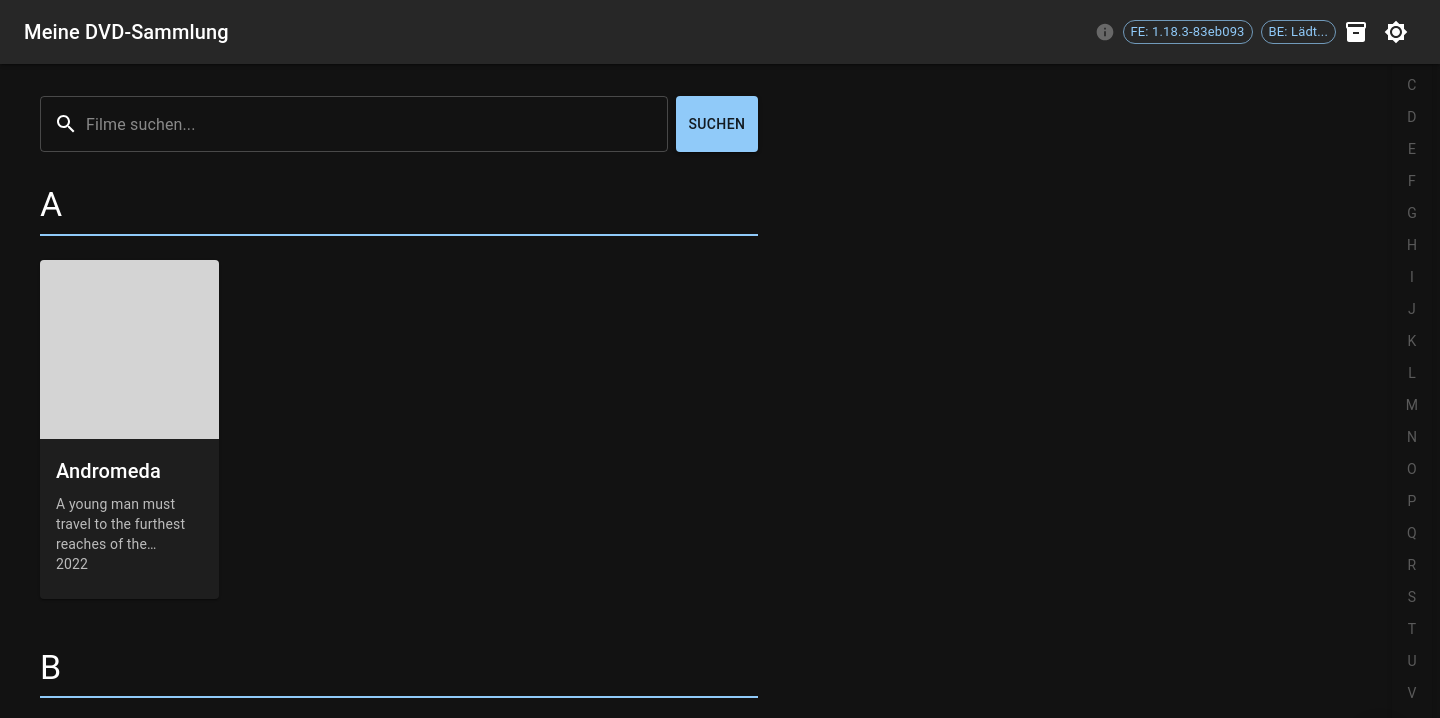
Test: App › zeigt den MovieDialog beim Klick auf einen Film
Expected: the heading "Andromeda" is shown, x1=56 y1=459 x2=161 y2=483
Step 1. Click the element "Andromeda" → (130, 429), box x1=40 y1=260 x2=220 y2=598
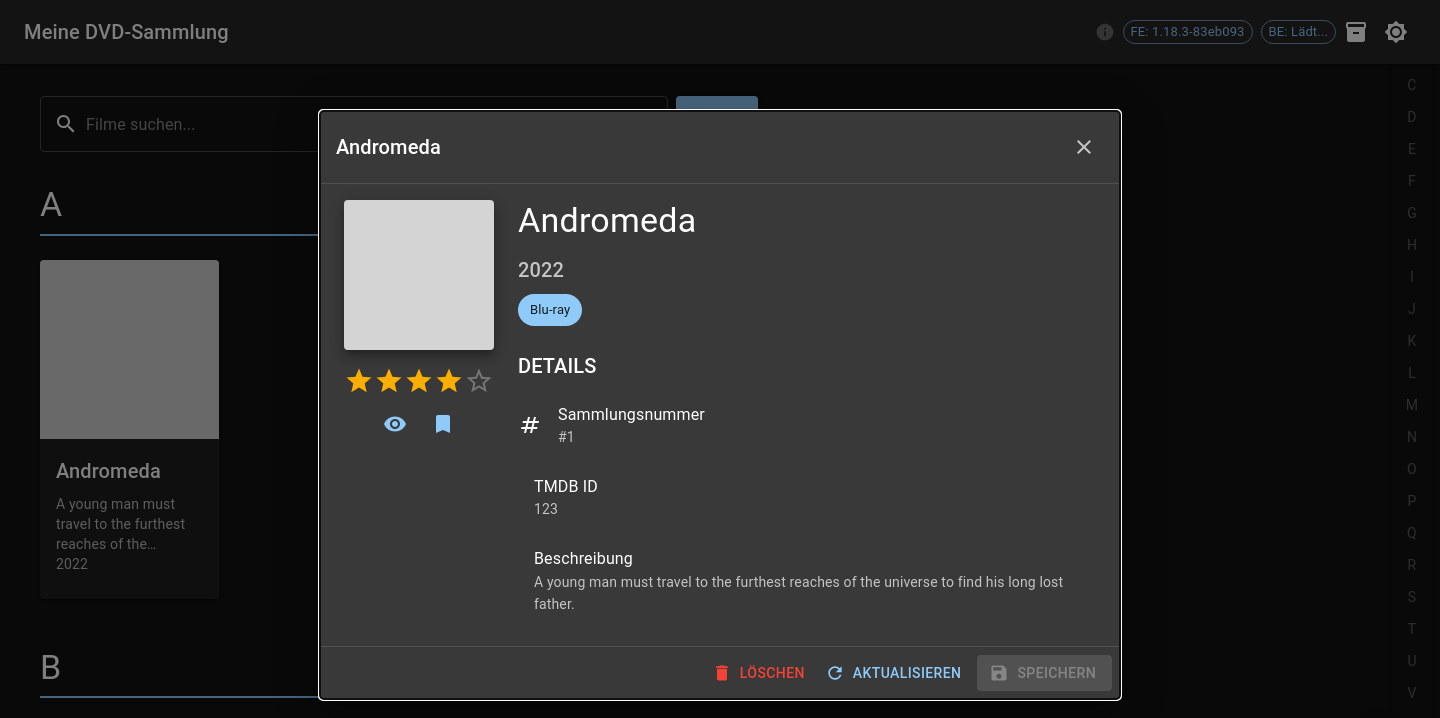
Expected: the dialog shows "Andromeda", x1=336 y1=135 x2=441 y2=159
